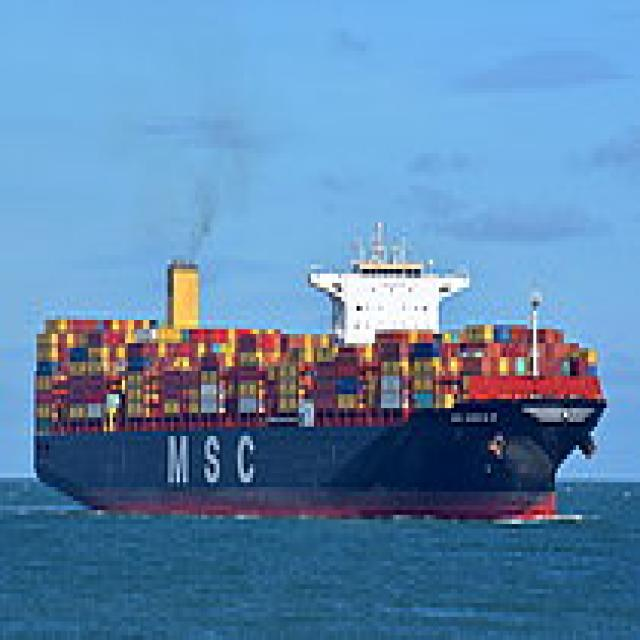Cargo: (28, 209, 610, 524)
